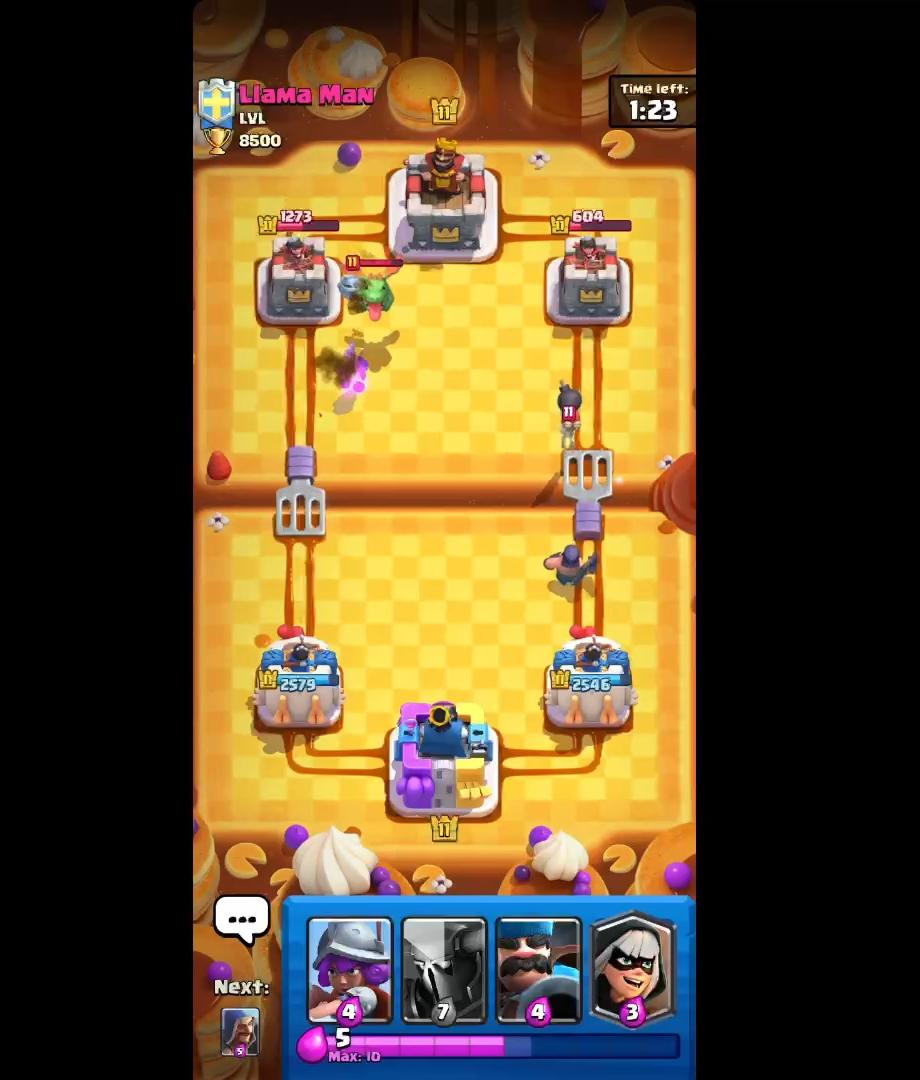Baby Dragon: (347, 251, 407, 327)
Bomber: (551, 376, 591, 456)
